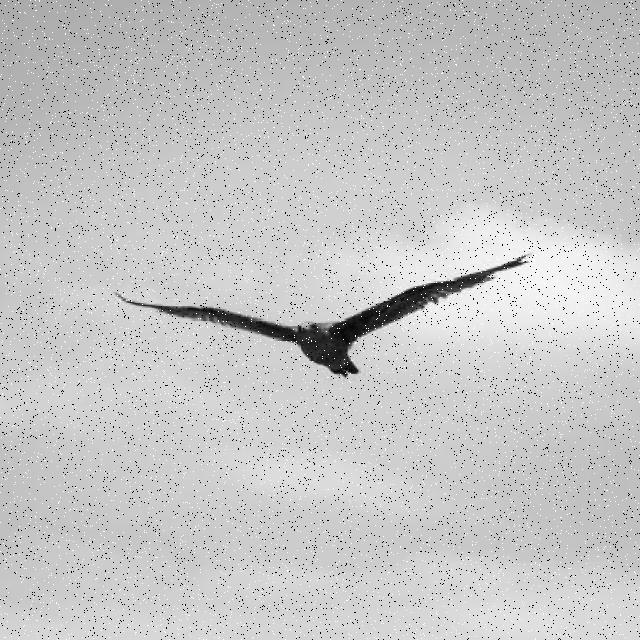bird: (113, 254, 532, 380)
